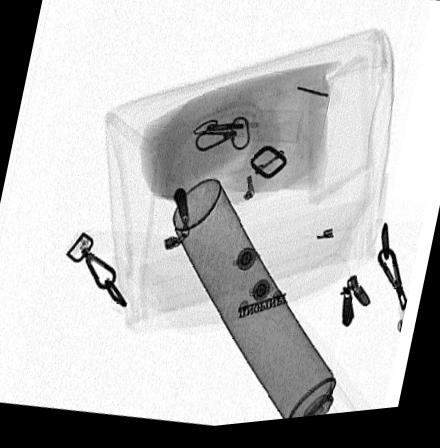Sprayer: (170, 181, 355, 425)
